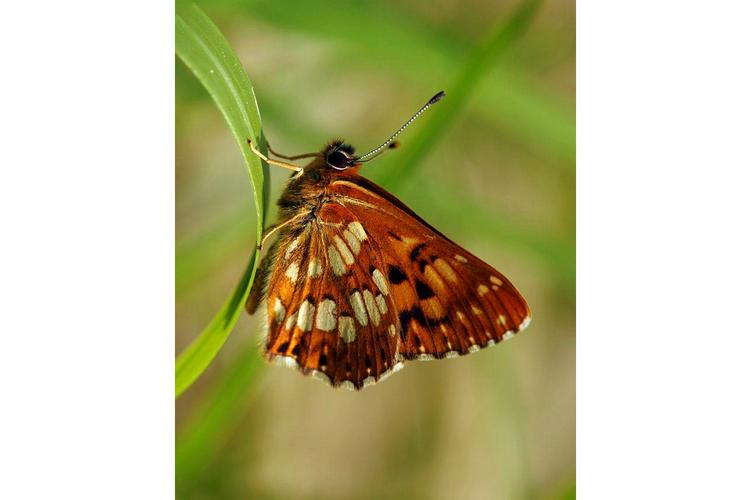Hesperiidae: (242, 90, 533, 401)
